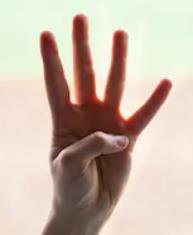right: (32, 9, 175, 222)
